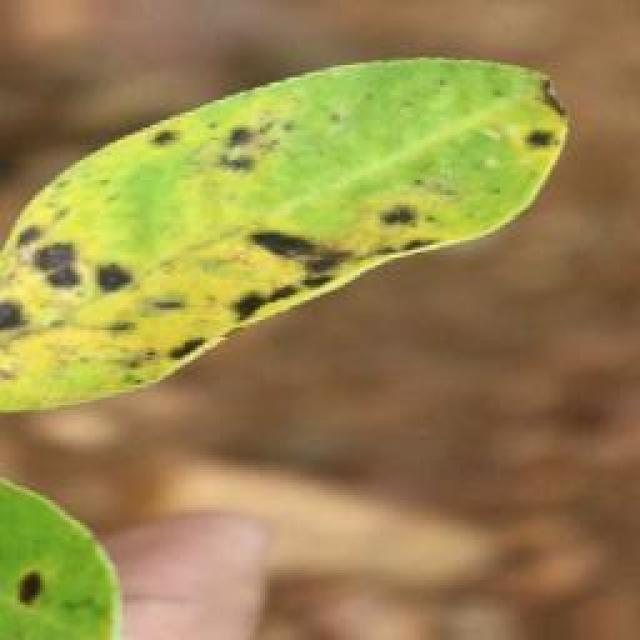Yellowish: (0, 63, 596, 407)
